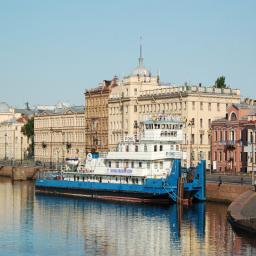tugboat: (35, 112, 208, 210)
